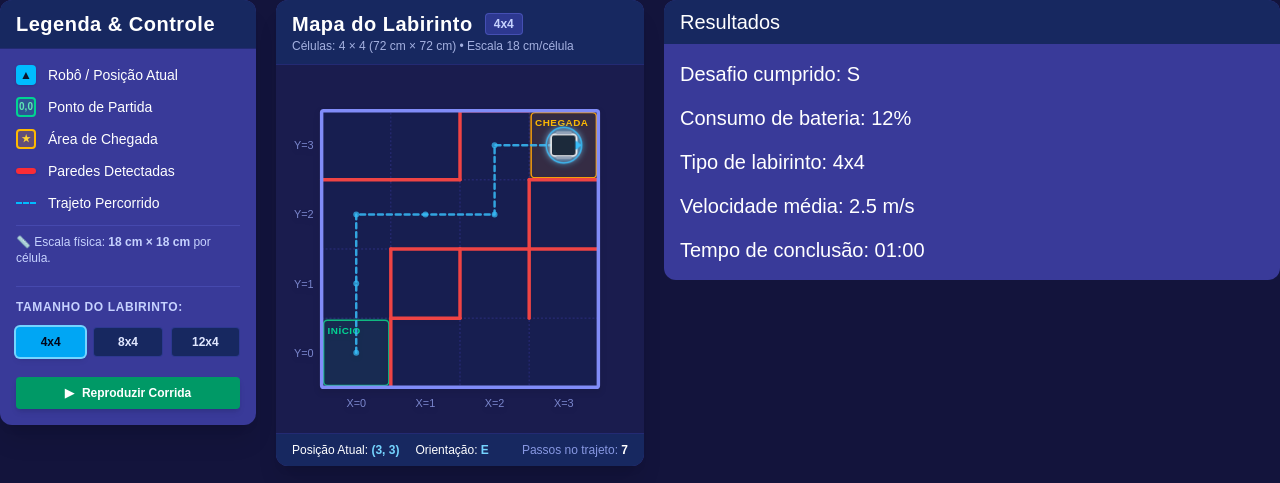
Test: Dashboard: simulação da corrida › pausa a simulação ao clicar de novo
The width and height of the screenshot is (1280, 483).
Click the button "▶ Reproduzir Corrida": click(128, 393) top-left (16, 377), bottom-right (240, 409)
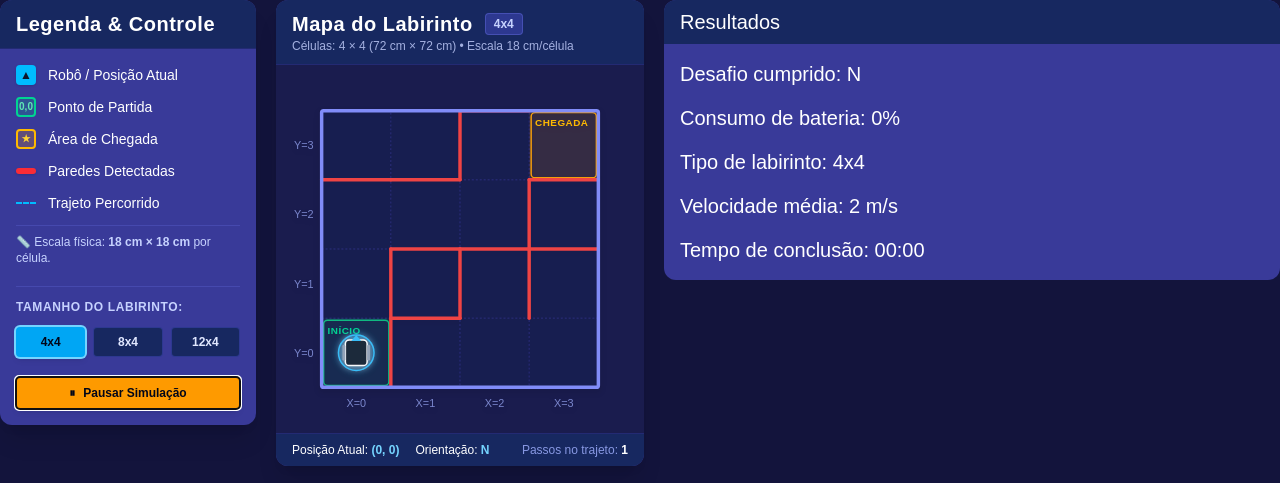
Click the button "⏸ Pausar Simulação": click(128, 393) top-left (16, 377), bottom-right (240, 409)
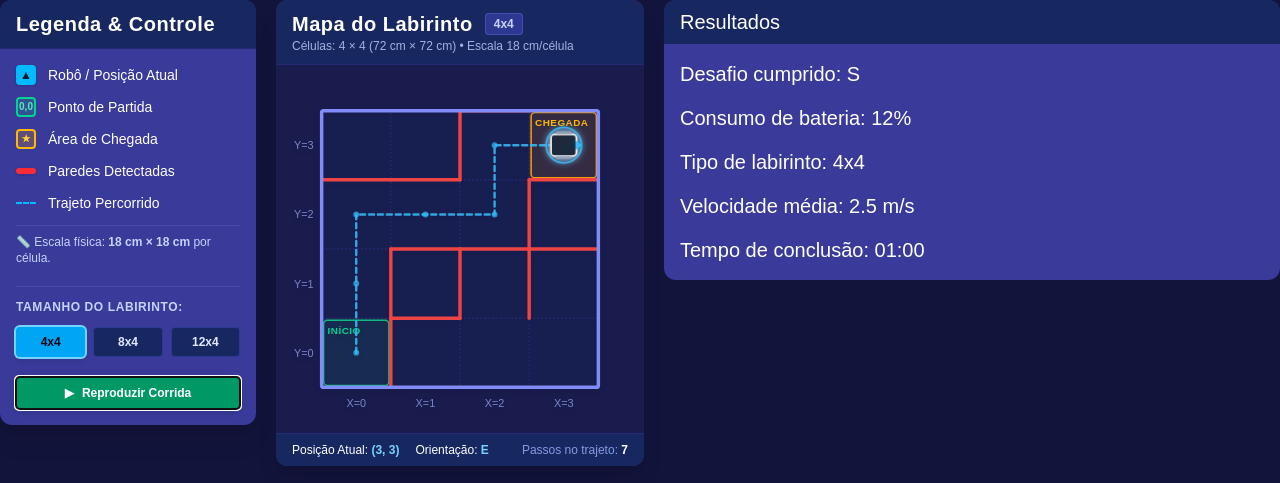
Result: the button "▶ Reproduzir Corrida" is shown at top-left (16, 377), bottom-right (240, 409)
